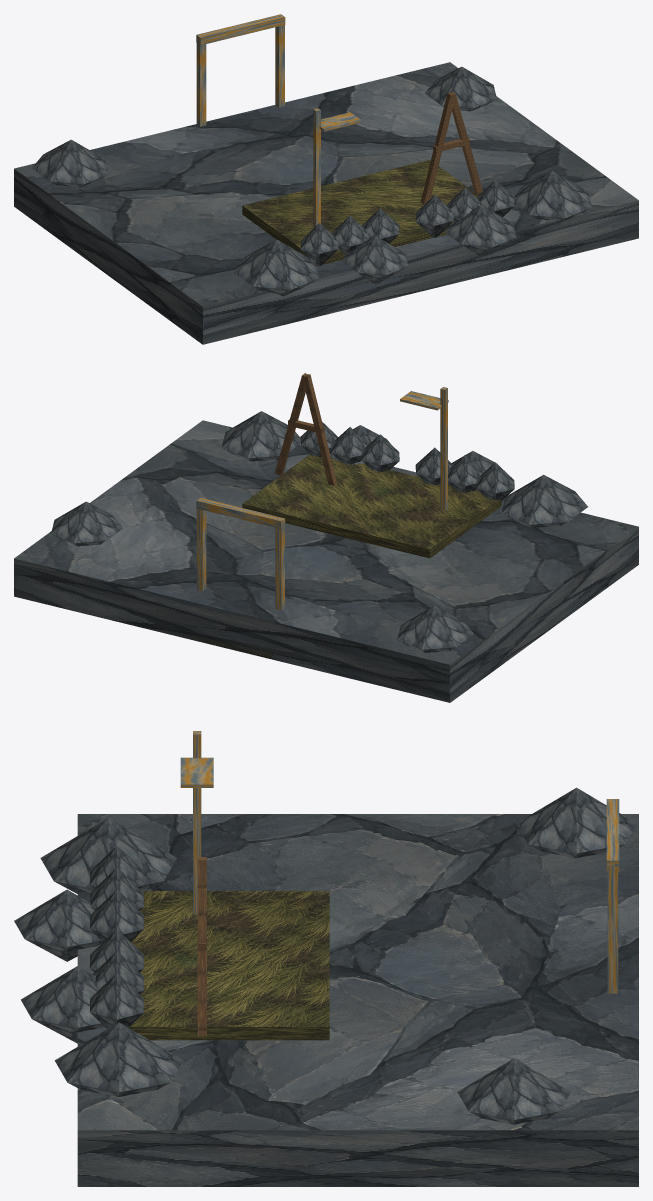
The model's file is ENV_RIDGE_001.obj.
The picture shows the model from 3 angles, top to bottom: view 1: azimuth 30°, elevation 25°; view 2: azimuth 150°, elevation 25°; view 3: azimuth 270°, elevation 25°; orthographic projection. The views are drawn at different scales.
Visible parts, largest first — view 1: RidgeGroundingMass, SafeOverlookPlatform, RidgeEdgeRock_2, RidgeEdgeRock_5, RidgeEdgeRock_1, RidgeEdgeRock_4, RidgeEdgeRock_3, RidgeEdgeRock_6, ArrivalMarkerHeader, ComfortEdgeBarrier_4, ComfortEdgeBarrier_1, SignalDirectionLeft (+9 smaller); view 2: RidgeGroundingMass, SafeOverlookPlatform, RidgeEdgeRock_2, RidgeEdgeRock_5, RidgeEdgeRock_1, RidgeEdgeRock_6, ArrivalMarkerHeader, SignalDirectionLeft, ComfortEdgeBarrier_1, ComfortEdgeBarrier_4, WindCueMast, ComfortEdgeBarrier_5 (+7 smaller); view 3: RidgeGroundingMass, SafeOverlookPlatform, RidgeEdgeRock_5, RidgeEdgeRock_2, RidgeEdgeRock_1, RidgeEdgeRock_6, RidgeEdgeRock_3, RidgeEdgeRock_4, ComfortEdgeBarrier_6, ComfortEdgeBarrier_3, SignalDirectionRight, ArrivalMarkerRight (+7 smaller).
Boxes of the visible parts, left/top/right/bottom form: RidgeGroundingMass: left=14, top=62, right=638, bottom=344; SafeOverlookPlatform: left=242, top=160, right=478, bottom=266; RidgeEdgeRock_2: left=232, top=239, right=319, bottom=296; RidgeEdgeRock_5: left=514, top=170, right=591, bottom=222; RidgeEdgeRock_1: left=32, top=139, right=108, bottom=187; RidgeEdgeRock_4: left=444, top=205, right=516, bottom=257; RidgeEdgeRock_3: left=341, top=236, right=408, bottom=284; RidgeEdgeRock_6: left=424, top=66, right=496, bottom=111; ArrivalMarkerHeader: left=196, top=14, right=285, bottom=45; ComfortEdgeBarrier_4: left=415, top=195, right=453, bottom=237; ComfortEdgeBarrier_1: left=300, top=223, right=338, bottom=265; SignalDirectionLeft: left=421, top=93, right=455, bottom=204; RidgeGroundingMass: left=14, top=420, right=638, bottom=702; SafeOverlookPlatform: left=242, top=454, right=501, bottom=558; RidgeEdgeRock_2: left=501, top=474, right=587, bottom=527; RidgeEdgeRock_5: left=221, top=411, right=300, bottom=461; RidgeEdgeRock_1: left=397, top=605, right=473, bottom=652; RidgeEdgeRock_6: left=51, top=501, right=123, bottom=546; ArrivalMarkerHeader: left=196, top=497, right=285, bottom=528; SignalDirectionLeft: left=302, top=374, right=336, bottom=485; ComfortEdgeBarrier_1: left=476, top=462, right=514, bottom=500; ComfortEdgeBarrier_4: left=361, top=434, right=399, bottom=471; WindCueMast: left=440, top=387, right=447, bottom=510; ComfortEdgeBarrier_5: left=331, top=427, right=368, bottom=464; RidgeGroundingMass: left=77, top=814, right=638, bottom=1186; SafeOverlookPlatform: left=127, top=891, right=329, bottom=1040; RidgeEdgeRock_5: left=54, top=1022, right=183, bottom=1096; RidgeEdgeRock_2: left=40, top=817, right=176, bottom=893; RidgeEdgeRock_1: left=516, top=787, right=637, bottom=858; RidgeEdgeRock_6: left=457, top=1058, right=570, bottom=1124; RidgeEdgeRock_3: left=14, top=889, right=102, bottom=961; RidgeEdgeRock_4: left=21, top=966, right=104, bottom=1043; ComfortEdgeBarrier_6: left=90, top=973, right=143, bottom=1028; ComfortEdgeBarrier_3: left=90, top=889, right=143, bottom=941; SignalDirectionRight: left=197, top=860, right=206, bottom=1035; ArrivalMarkerRight: left=607, top=866, right=618, bottom=993.
Size of the model in its own units: 7.22 by 2.65 by 6.01.
4 materials, 4 textured.
